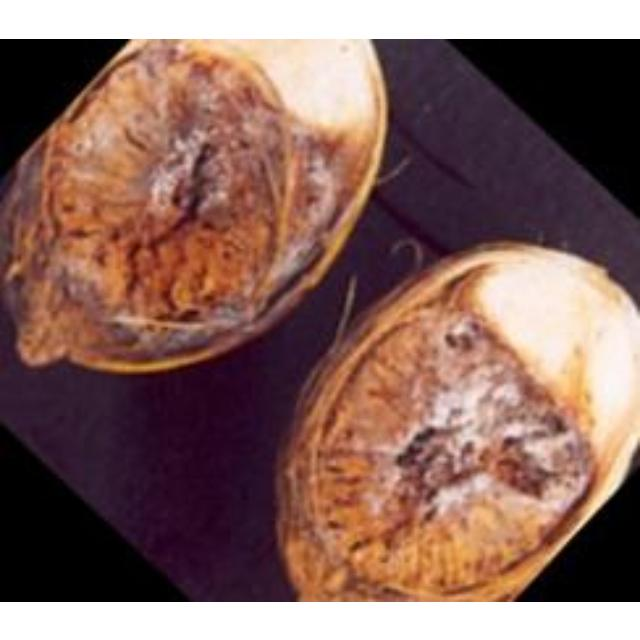damaged: (273, 240, 637, 599), (0, 38, 386, 376)
